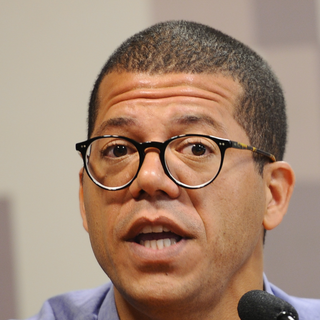eye: (173, 139, 220, 160), (97, 140, 138, 163)
